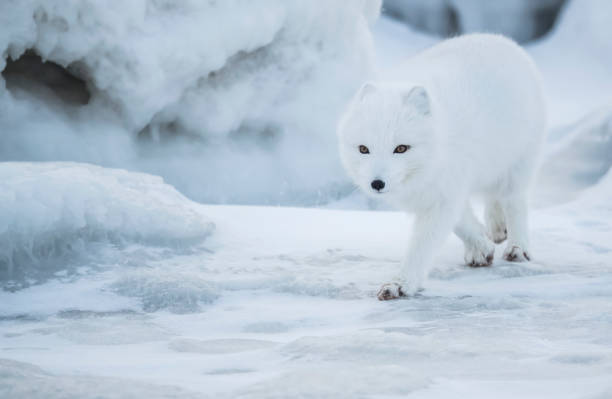arcticfox: (343, 107, 425, 207)
